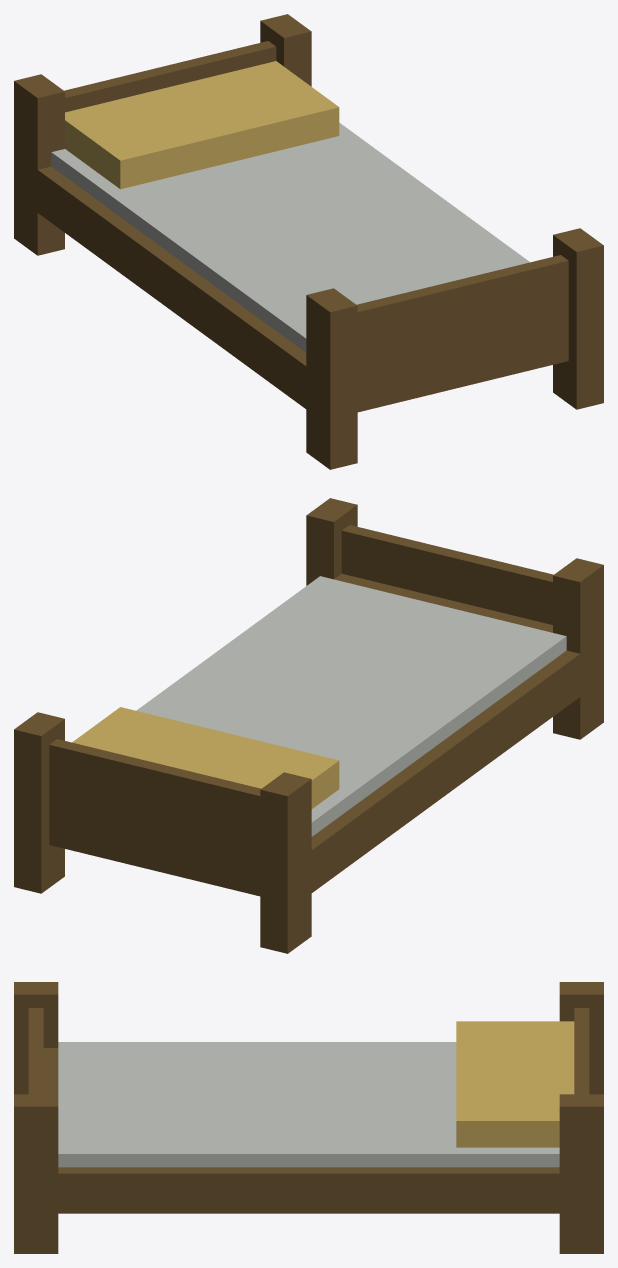
The model's file is guard_bed.obj.
3 views of the same model, one above another, from view 1: azimuth 30°, elevation 25°; view 2: azimuth 150°, elevation 25°; view 3: azimuth 270°, elevation 25° (orthographic). The views are drawn at different scales.
Bounding box in the file's own units: 2 × 1.1 × 4.
Materials: 1 (1 with a texture image).
